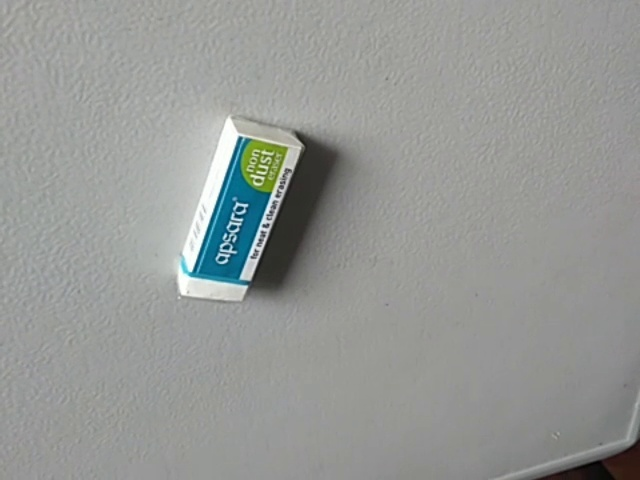Eraser: (171, 109, 307, 316)
